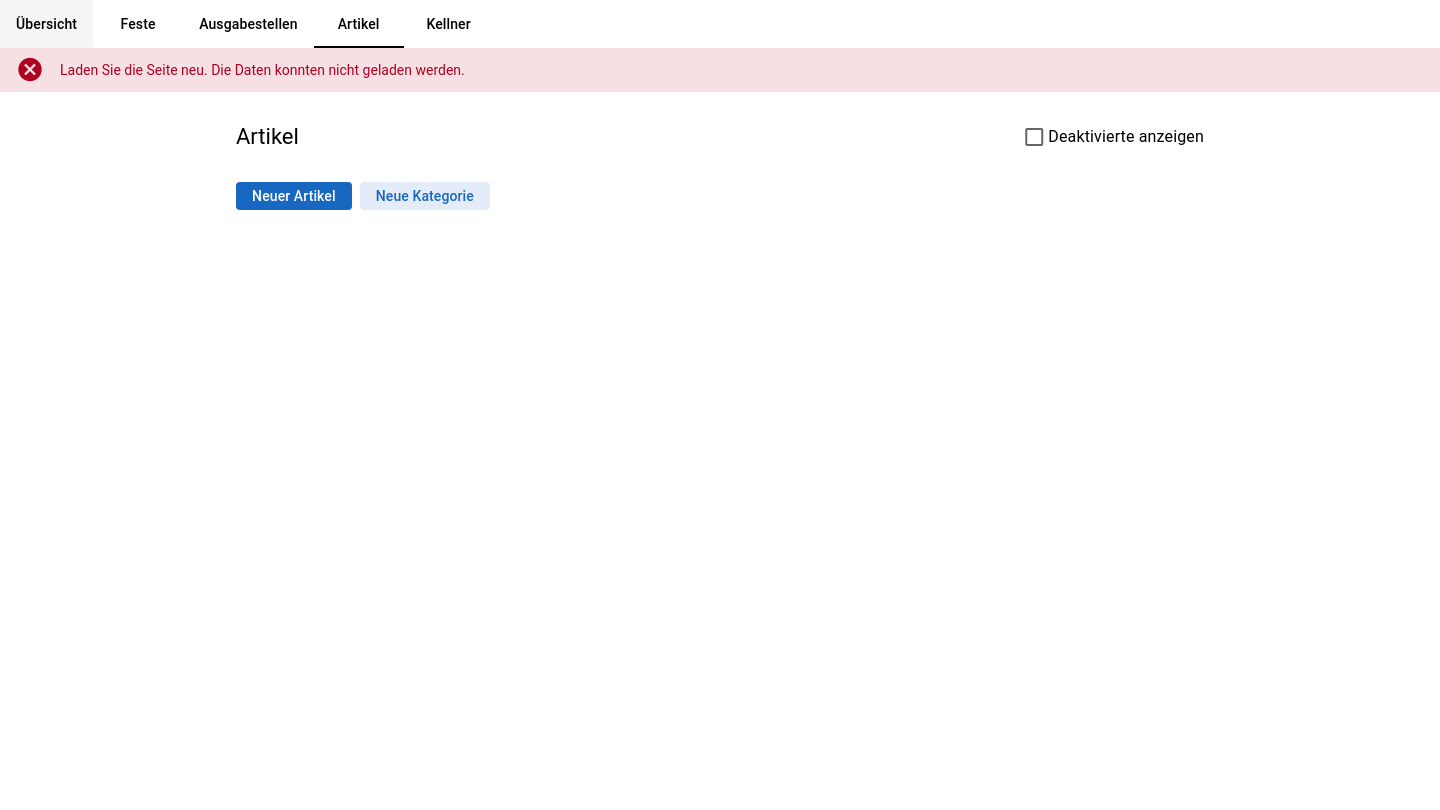
Test: the sizes of the controls on the laptop and on the phone › draws the fields inside an admin dialog in the compact size
What coordinates should you click on to do the following:
click the button with test id "new-item"
I would click on:
 (294, 196)
Its box is 236,182 -> 352,210.
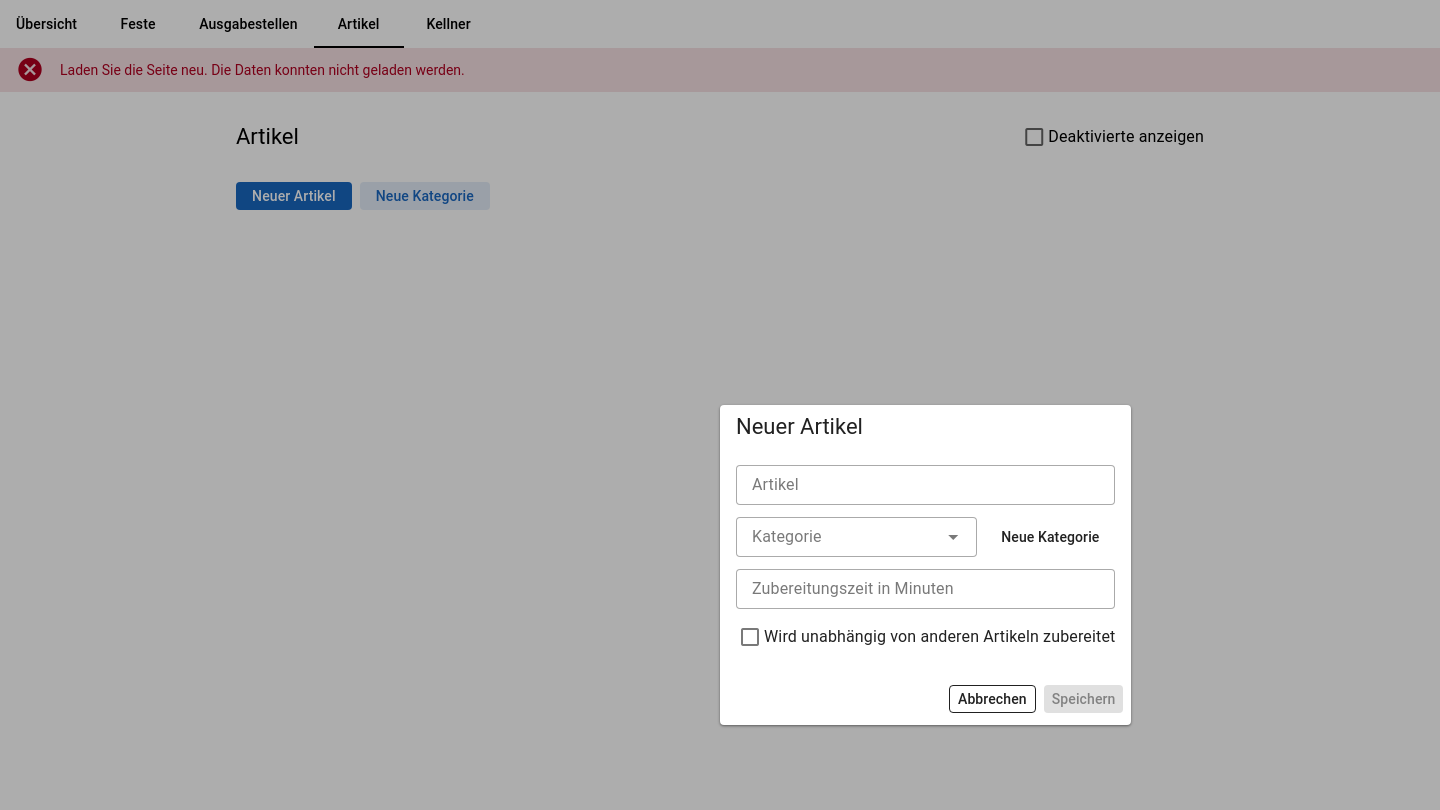
expect the element with test id "category-field" is shown: met, box 736,517 -> 977,557
